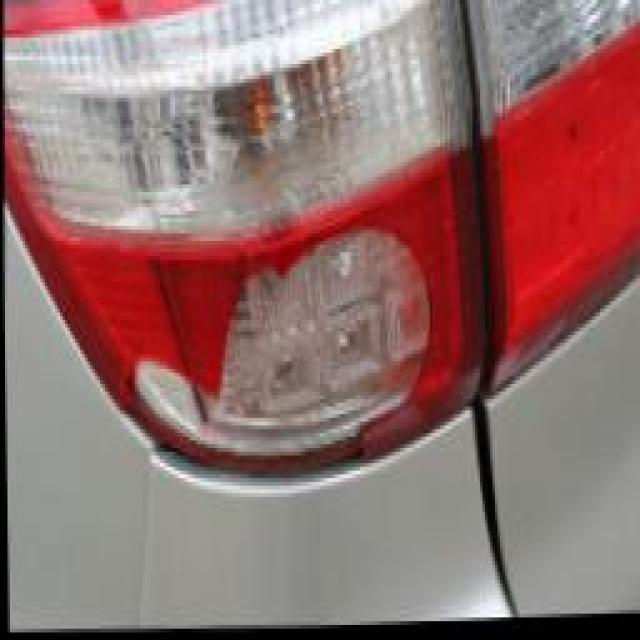Light: (75, 132, 456, 484)
